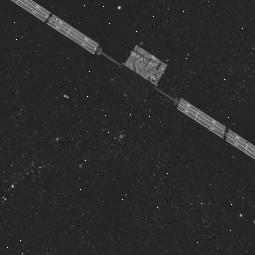smart_1: (71, 15, 238, 126)
